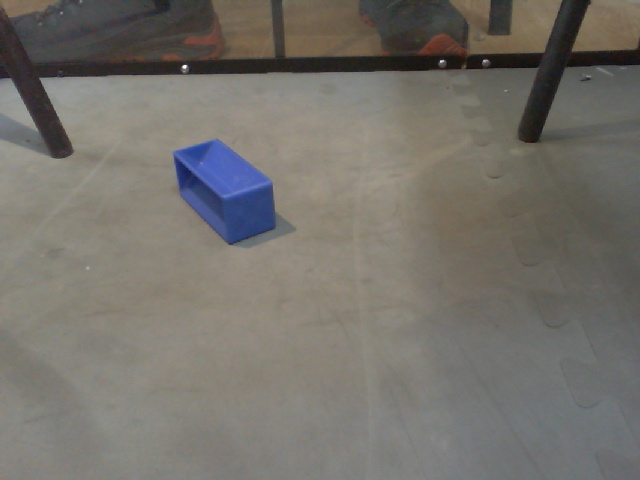BlueSample: (169, 136, 278, 246)
